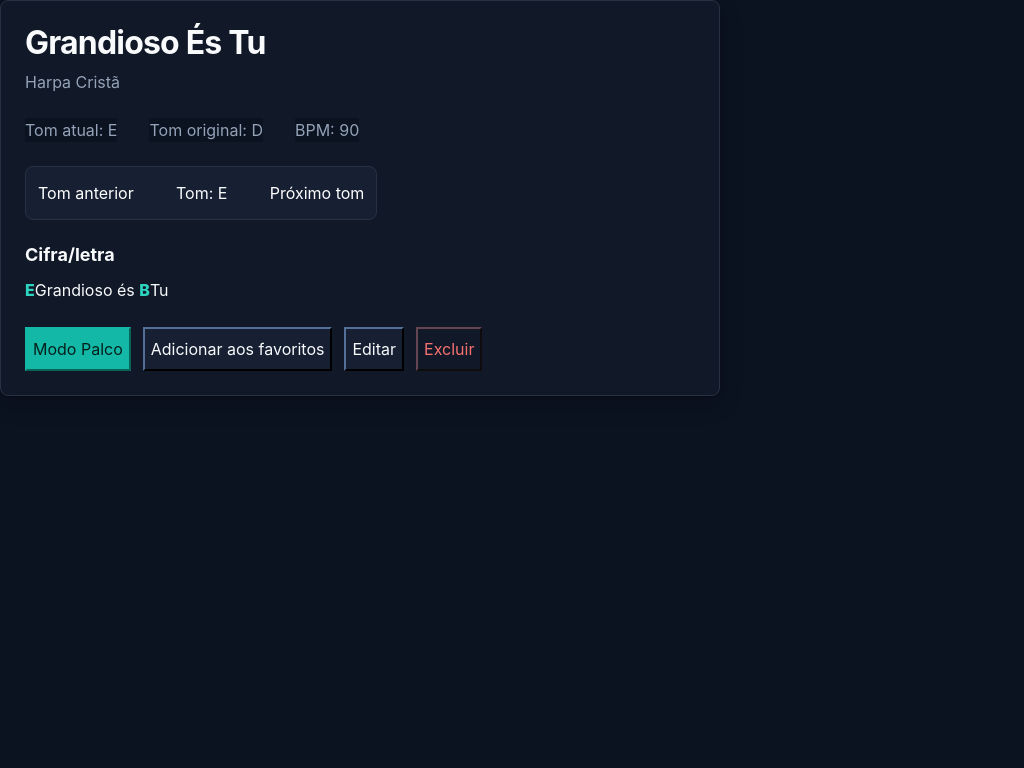
SongDetailPage › shows an error when deletion fails
This screenshot has width=1024, height=768.
Step 1. Click the button "Excluir" → (449, 349), box [416,327,482,371]
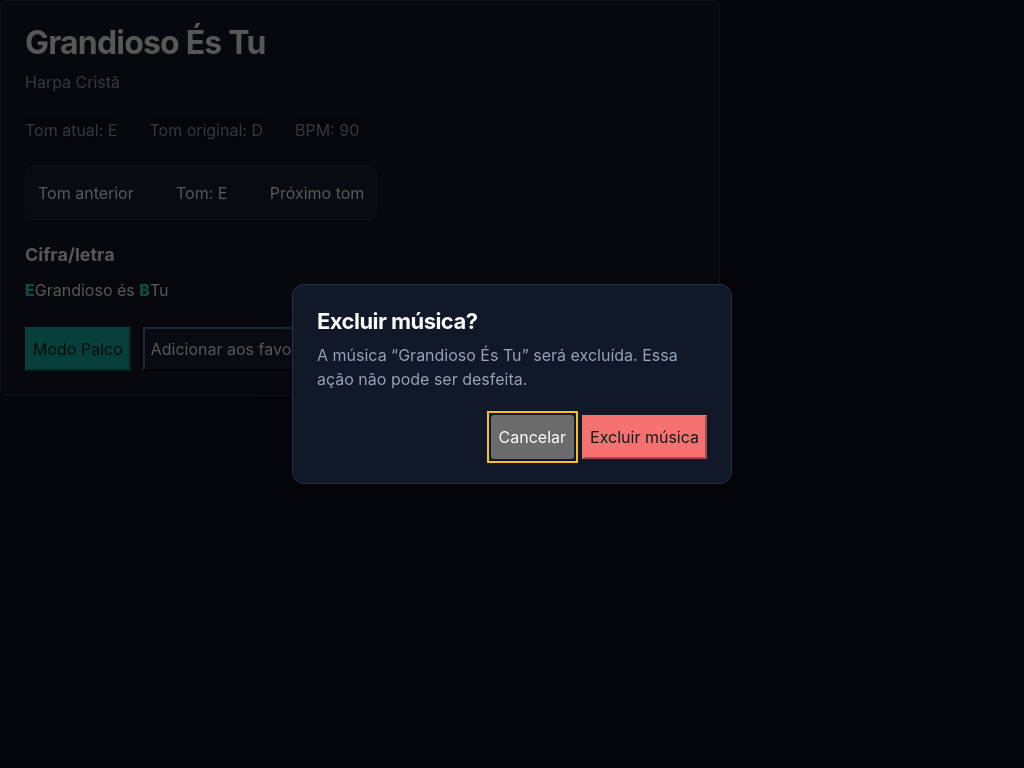
Expected: the dialog is shown, [292,284,732,484]
Step 2. Click the button "Excluir música" → (644, 437), box [582,415,707,459]
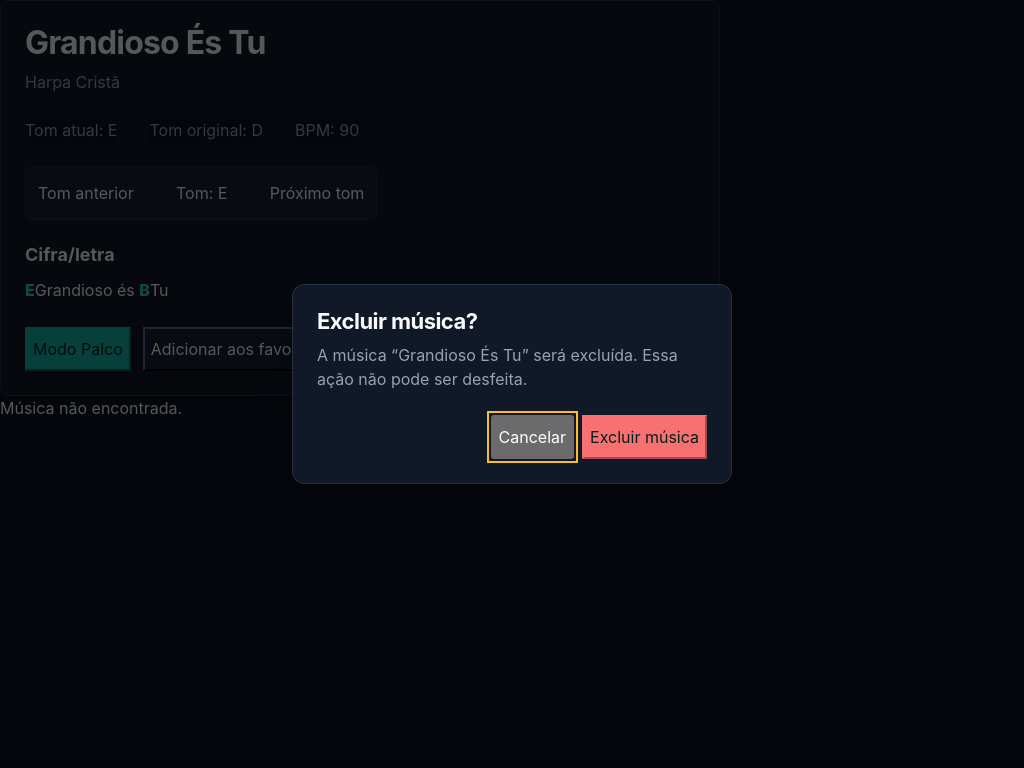
Expected: the dialog is shown, [292,284,732,484]
Expected: the message reads "Música não encontrada.", [0,398,182,418]
